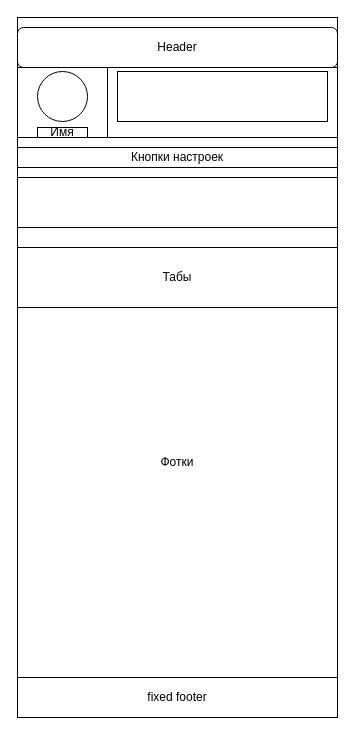
This 355x735 diagram has some shape labels left out. Here are the shapes that lost their labels. From the top down, the centre of each, then its label:
At [62,96]: "Фото".
At [222,96]: "Данные".
At [177,202]: "Последние истории".
